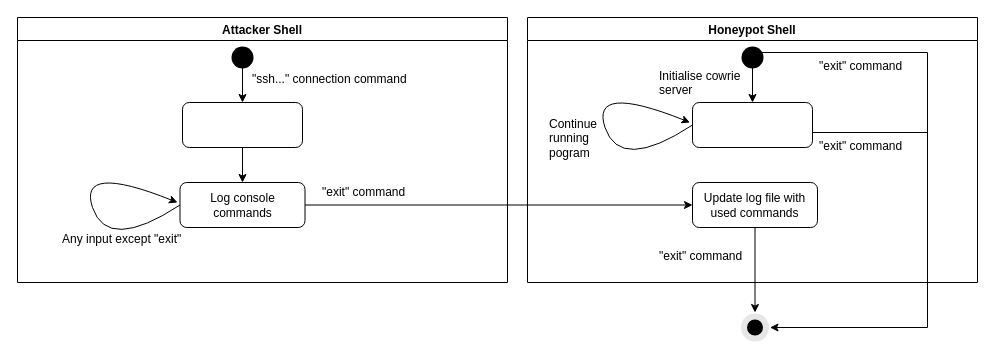
The diagram is 995 pixels wide and 363 high, and some of its shapes have lost their labels. Each missing label, with the centre of its shape:
"Connect to Cowrie" goes at [242,125].
"Initialise Cowrie" goes at [752,125].
